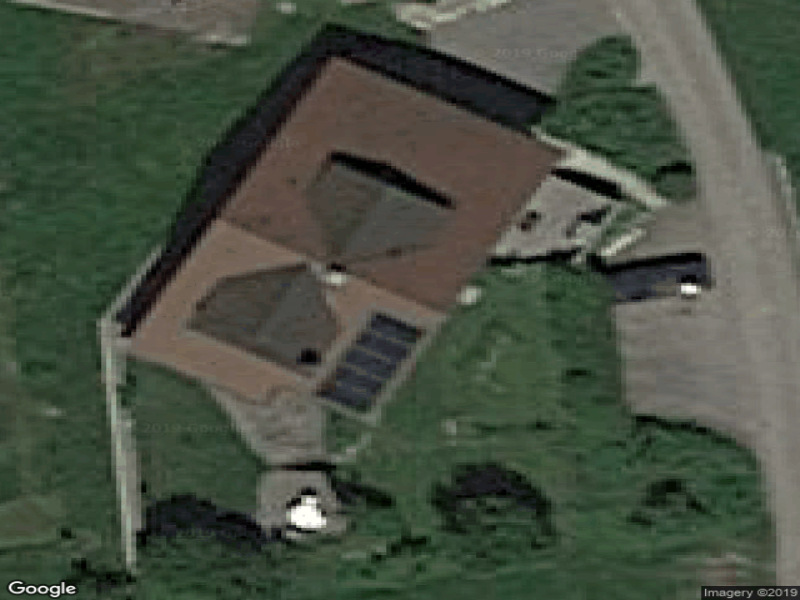pv: (322, 311, 425, 419)
